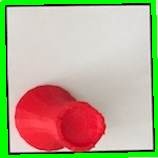Red Castle: (12, 79, 110, 154)
